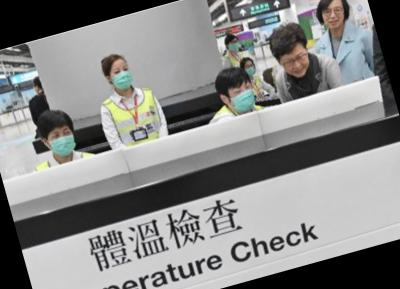with_mask: (45, 125, 80, 160), (227, 78, 260, 115), (108, 63, 135, 92), (227, 37, 242, 53), (243, 61, 258, 77)
without_mask: (281, 49, 315, 81), (320, 1, 350, 29)
